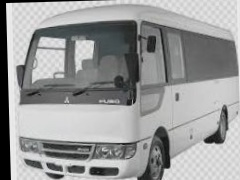bus: (13, 2, 240, 180)
